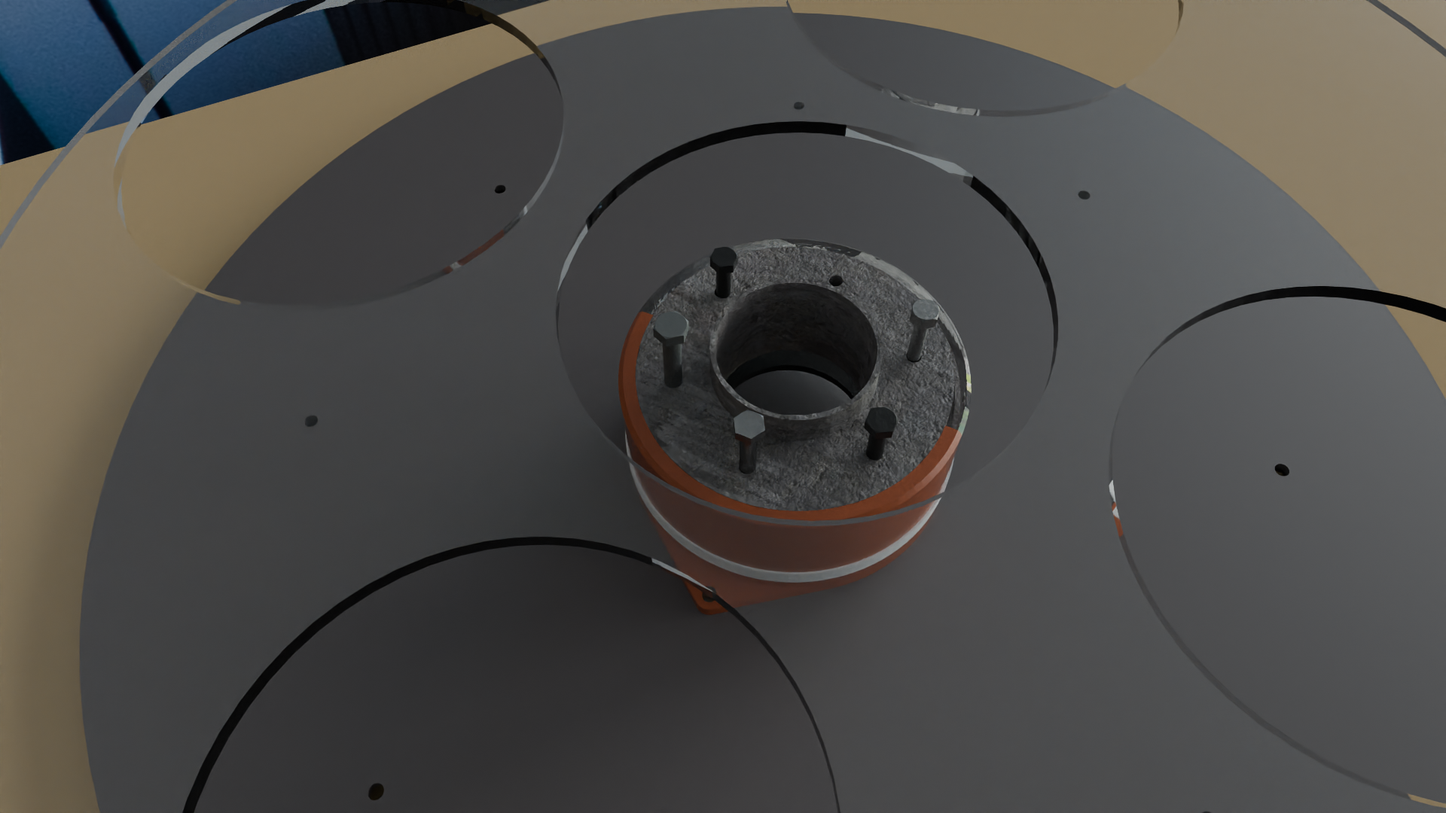bolt: (653, 311, 688, 340), (865, 406, 898, 434), (734, 410, 765, 439), (911, 299, 940, 323), (710, 247, 738, 267)
